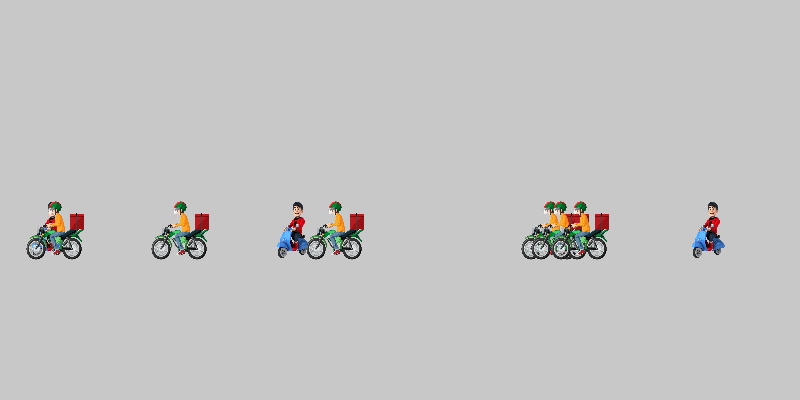helmet: (25, 200, 85, 260), (150, 200, 210, 260), (305, 200, 365, 260), (520, 200, 580, 260), (530, 200, 590, 260), (550, 200, 610, 260)
no_helmet: (20, 200, 80, 260), (265, 200, 325, 260), (680, 200, 740, 260)
